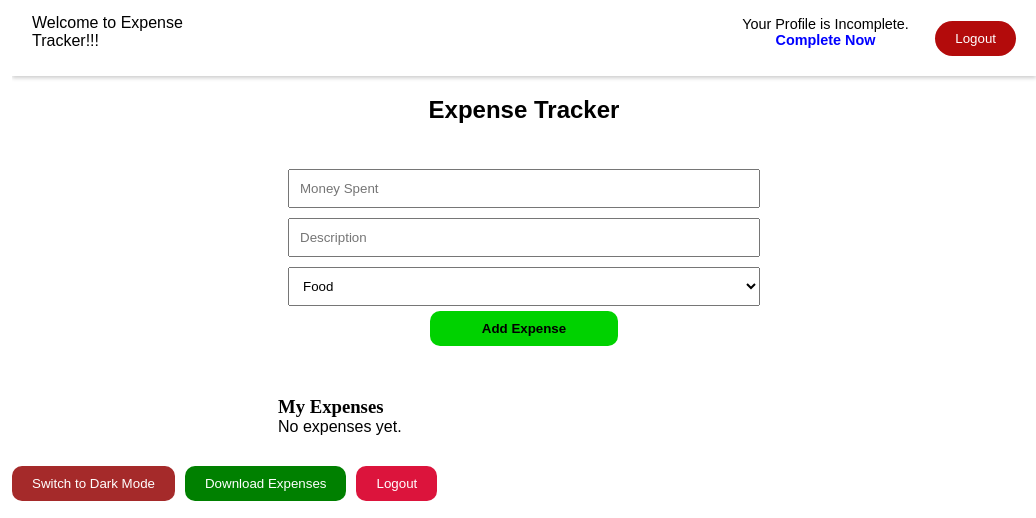
it: Dashboard Tests › toggles dark mode
Click the button "Switch to Dark Mode": [94, 484] box [12,466,175,501]
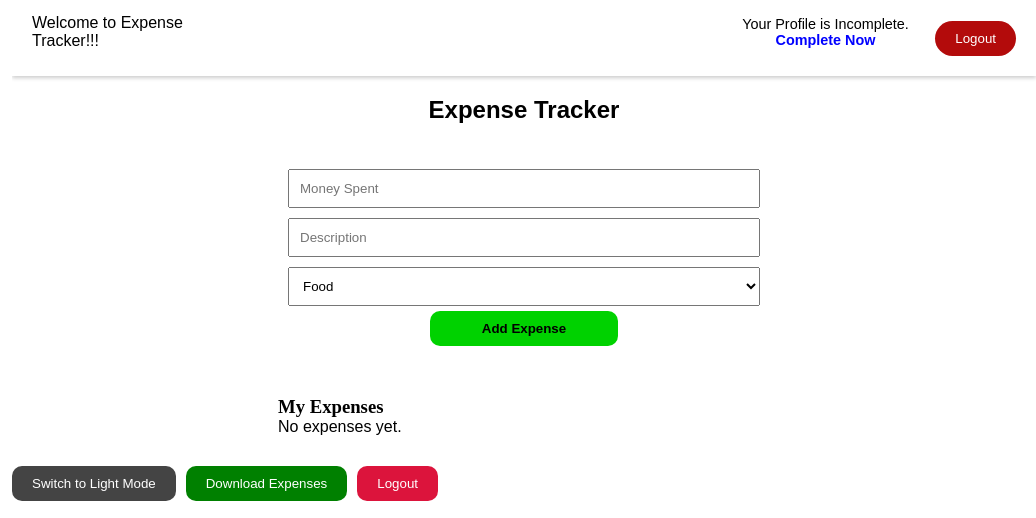
Expected: the button "Switch to Light Mode" is shown, [12,466,176,501]
